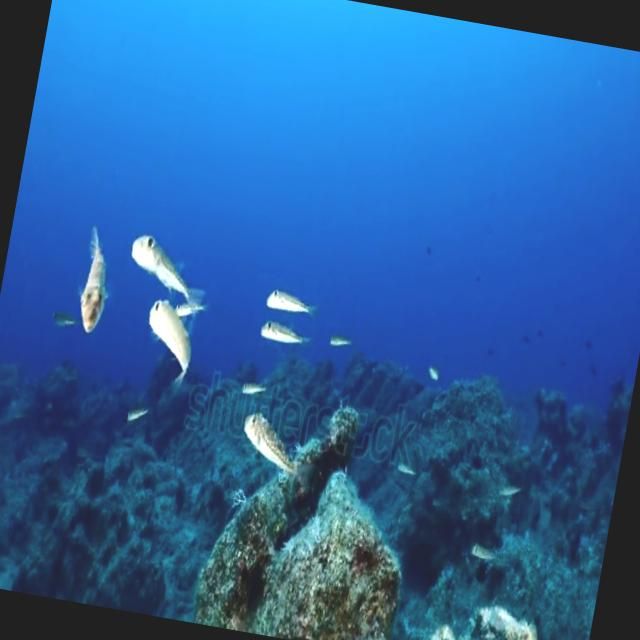Balon Baligi: (63, 219, 123, 341), (127, 212, 206, 304), (230, 392, 306, 481), (137, 289, 204, 389), (252, 308, 312, 353), (264, 274, 321, 318)
